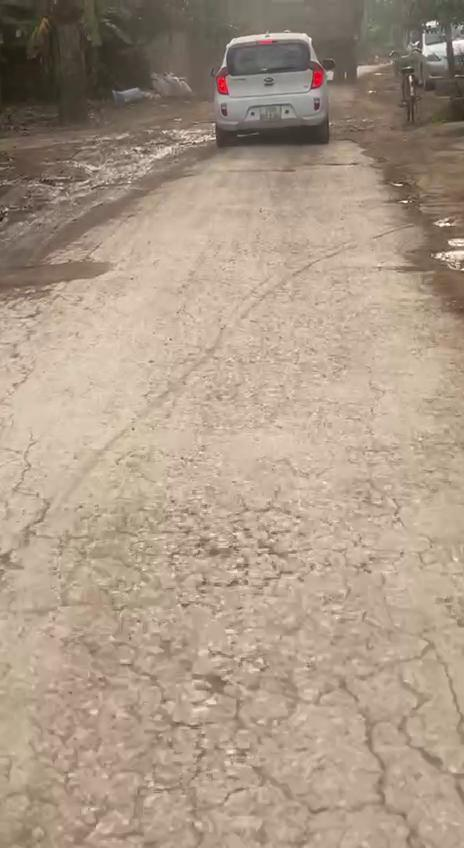pothole: (0, 255, 124, 296)
